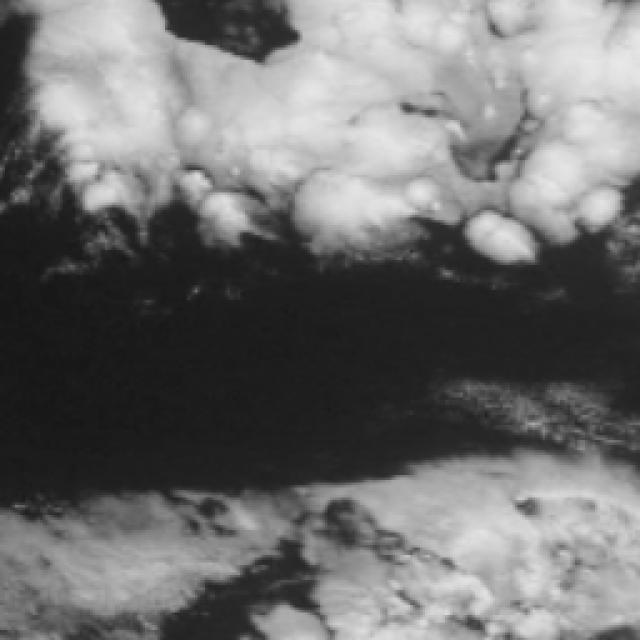CB: (58, 21, 468, 198), (490, 12, 640, 188)
